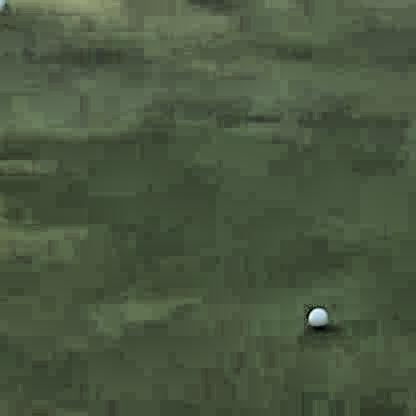golfball: (305, 302, 323, 324)
